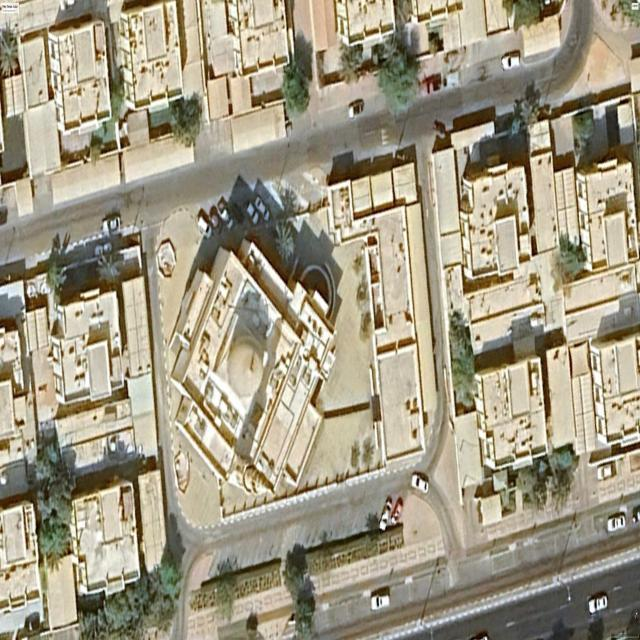mosque: (170, 240, 335, 495)
